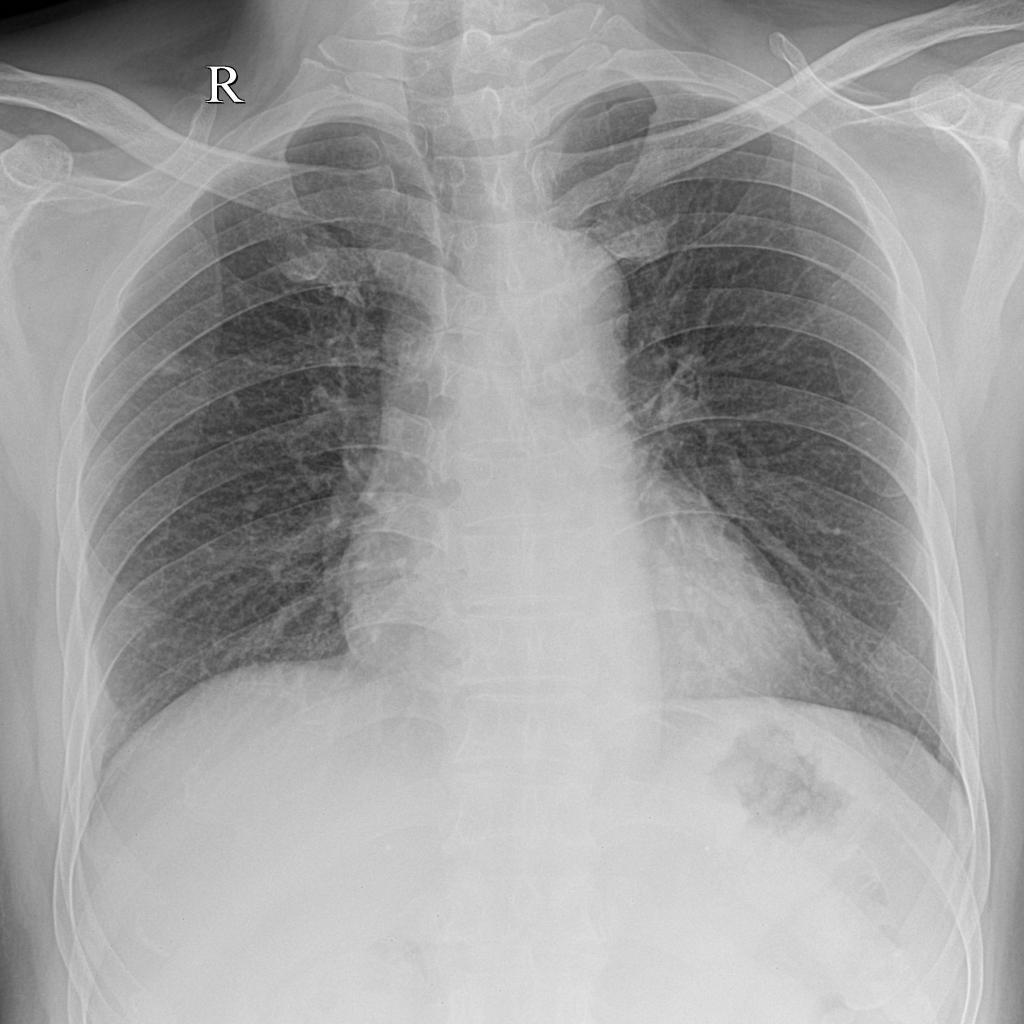Nodule: (146, 340, 198, 389)
